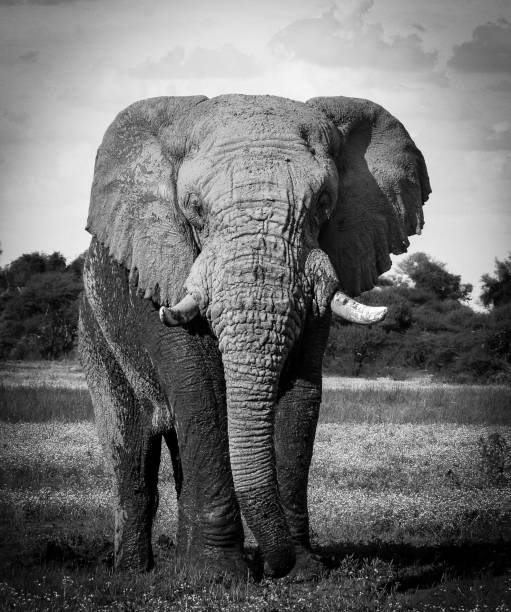africanelephant: (122, 110, 393, 368)
